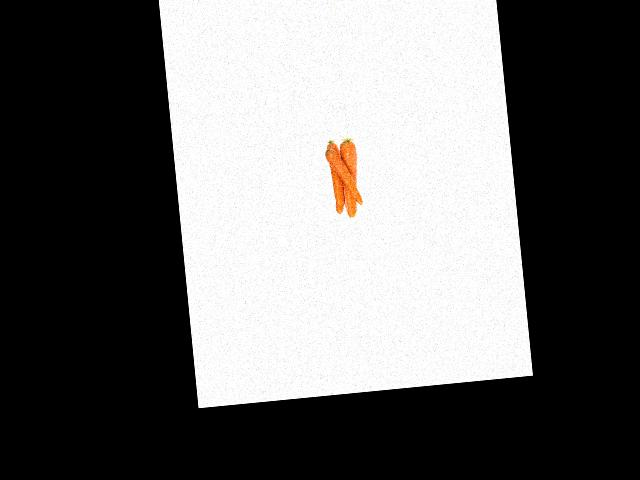carrot: (340, 137, 363, 221)
